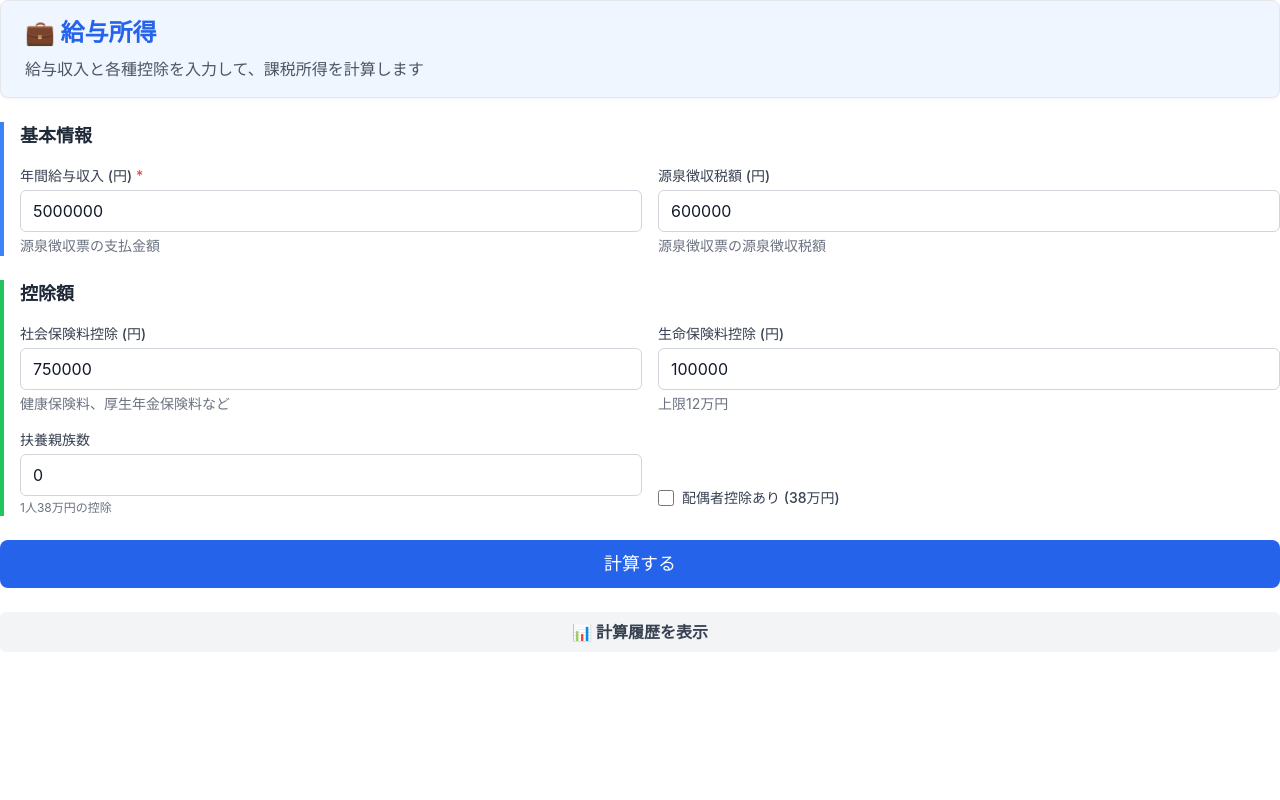
SalaryIncomeModule › 年分別の税額表示（還付・納付） › 暫定ルールで計算した場合は注意書きを表示する
This screenshot has width=1280, height=800.
Click the button "計算する".
click(640, 564)  # box [0,540,1279,588]
(page scrolled)
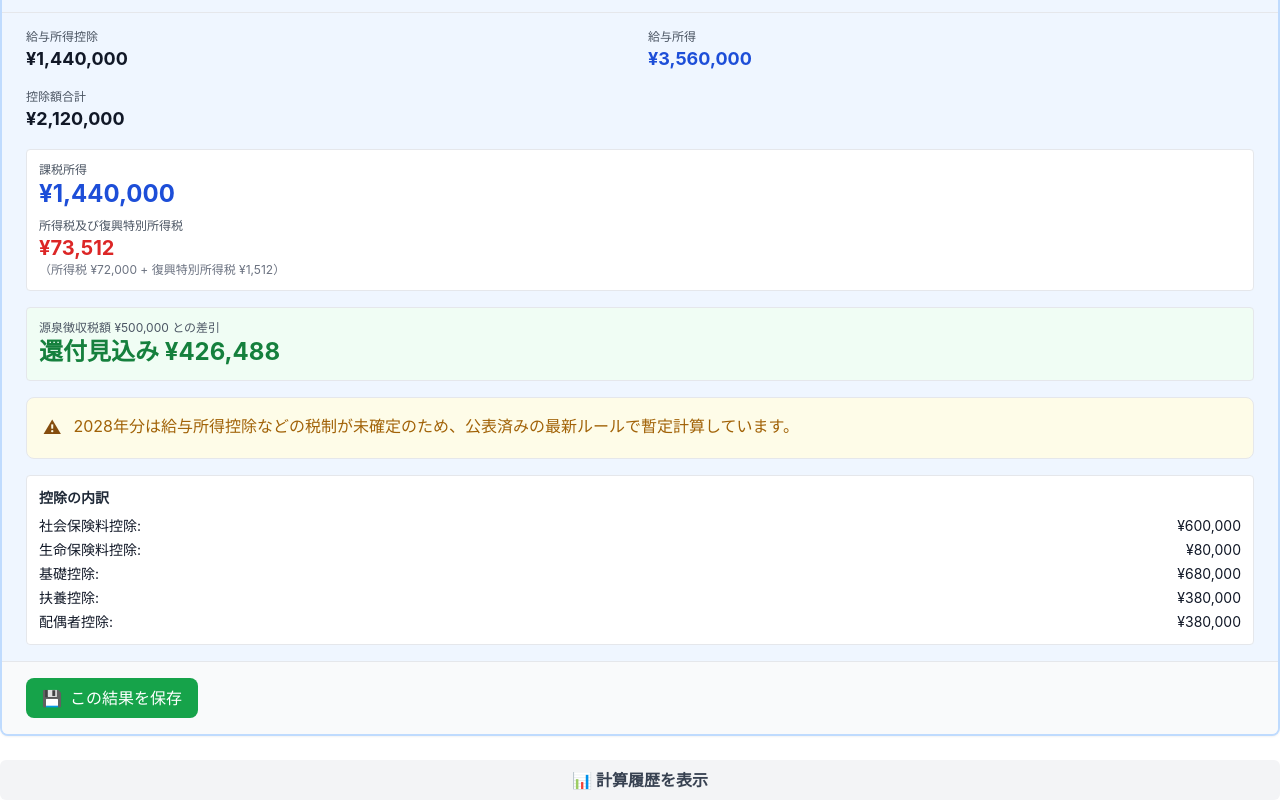
Expected: the text "2028年分は給与所得控除などの税制が未確定のため、公表済みの最新ルールで暫定計算しています。" is shown, [74,416,799,436]
